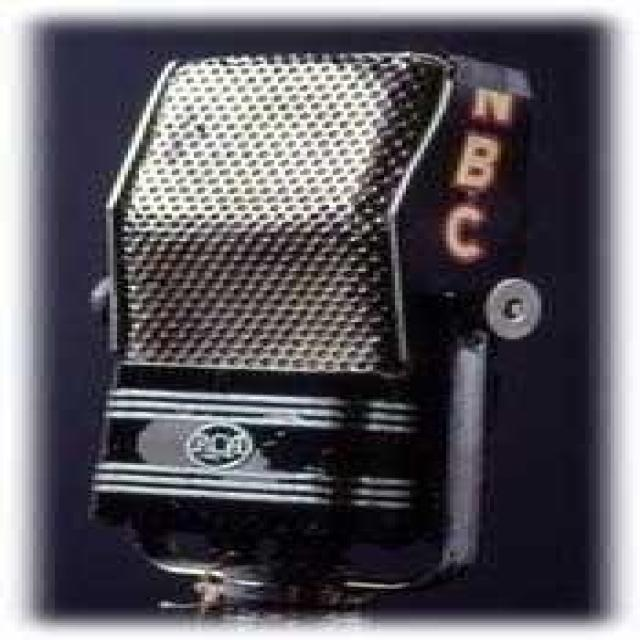microphone: (89, 57, 549, 614)
